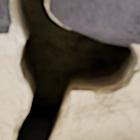broken_brick: (56, 0, 139, 45), (0, 0, 10, 34)
crack: (2, 0, 139, 139)
